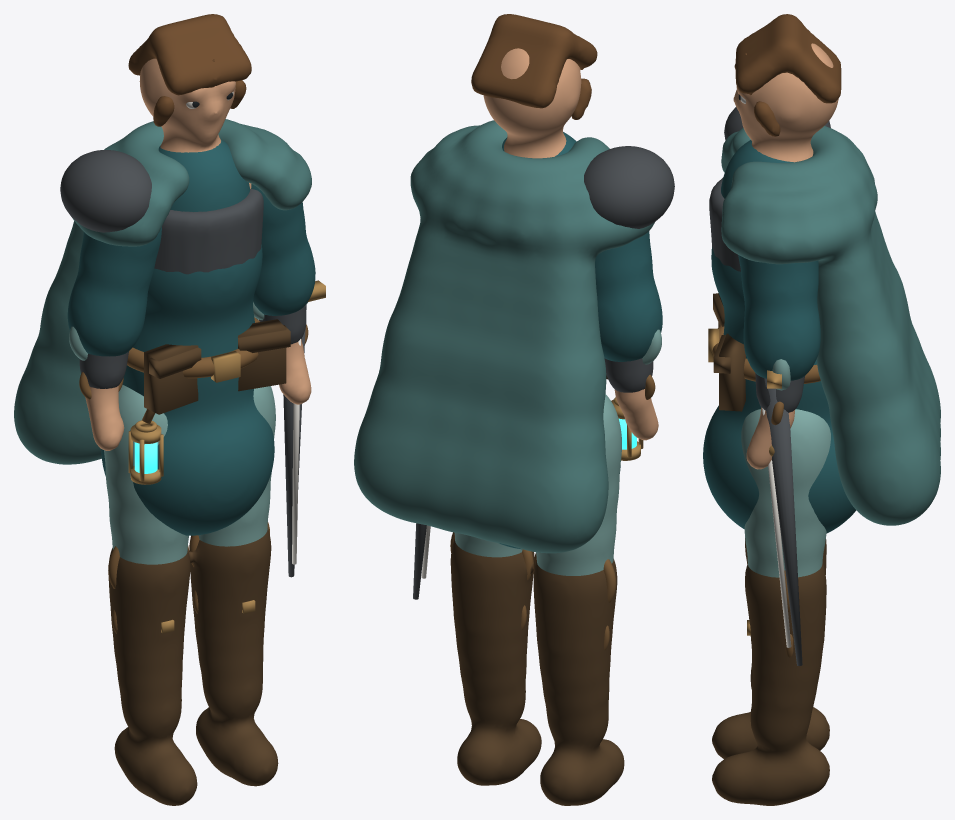
File: 3D模型 char_swordsman.glb
3 renders of one model, left to right at view 1: azimuth 30°, elevation 25°; view 2: azimuth 150°, elevation 25°; view 3: azimuth 270°, elevation 25°, orthographic. The views are drawn at different scales.
Visible parts, largest first — view 1: char_swordsman_boots.001, char_swordsman_tunic.001, char_swordsman_cape.001, char_swordsman_sleeves.001, char_swordsman_pants.001, char_swordsman_body, char_swordsman_hair.001, char_swordsman_chestplate.001, char_swordsman_pauldron, char_swordsman_pouch1, char_swordsman_bracers.001, char_swordsman_pouch0 (+7 smaller); view 2: char_swordsman_cape.001, char_swordsman_boots.001, char_swordsman_hair.001, char_swordsman_body, char_swordsman_sleeves.001, char_swordsman_pauldron, char_swordsman_pants.001, char_swordsman_bracers.001, char_swordsman_blade; view 3: char_swordsman_cape.001, char_swordsman_boots.001, char_swordsman_tunic.001, char_swordsman_sleeves.001, char_swordsman_pants.001, char_swordsman_body, char_swordsman_hair.001, char_swordsman_blade, char_swordsman_pouch0, char_swordsman_chestplate.001, char_swordsman_bladehi, char_swordsman_bracers.001 (+1 smaller).
Part boxes in pixels (bbox=[...]): char_swordsman_boots.001: bbox=[108, 528, 278, 805]; char_swordsman_tunic.001: bbox=[101, 139, 274, 535]; char_swordsman_cape.001: bbox=[14, 119, 311, 464]; char_swordsman_sleeves.001: bbox=[67, 184, 315, 356]; char_swordsman_pants.001: bbox=[104, 385, 275, 564]; char_swordsman_body: bbox=[85, 58, 311, 450]; char_swordsman_hair.001: bbox=[128, 14, 251, 126]; char_swordsman_chestplate.001: bbox=[154, 189, 263, 274]; char_swordsman_pauldron: bbox=[60, 150, 151, 232]; char_swordsman_pouch1: bbox=[144, 344, 198, 414]; char_swordsman_bracers.001: bbox=[79, 305, 306, 388]; char_swordsman_pouch0: bbox=[238, 319, 286, 391]; char_swordsman_cape.001: bbox=[354, 120, 654, 553]; char_swordsman_boots.001: bbox=[450, 539, 624, 805]; char_swordsman_hair.001: bbox=[471, 14, 597, 119]; char_swordsman_body: bbox=[483, 48, 658, 440]; char_swordsman_sleeves.001: bbox=[595, 231, 662, 361]; char_swordsman_pauldron: bbox=[584, 146, 674, 228]; char_swordsman_pants.001: bbox=[454, 394, 621, 575]; char_swordsman_bracers.001: bbox=[604, 358, 653, 392]; char_swordsman_blade: bbox=[413, 523, 426, 599]; char_swordsman_cape.001: bbox=[721, 126, 940, 525]; char_swordsman_boots.001: bbox=[712, 538, 829, 805]; char_swordsman_tunic.001: bbox=[703, 140, 856, 533]; char_swordsman_sleeves.001: bbox=[738, 255, 820, 380]; char_swordsman_pants.001: bbox=[741, 409, 830, 577]; char_swordsman_body: bbox=[733, 43, 838, 469]; char_swordsman_hair.001: bbox=[734, 14, 841, 136]; char_swordsman_blade: bbox=[764, 378, 802, 666]; char_swordsman_pouch0: bbox=[719, 333, 745, 411]; char_swordsman_chestplate.001: bbox=[709, 177, 740, 271]; char_swordsman_bladehi: bbox=[762, 408, 791, 647]; char_swordsman_bracers.001: bbox=[755, 373, 804, 412].
Bounding box in the file's own units: 0.623 × 1.79 × 0.5092.
